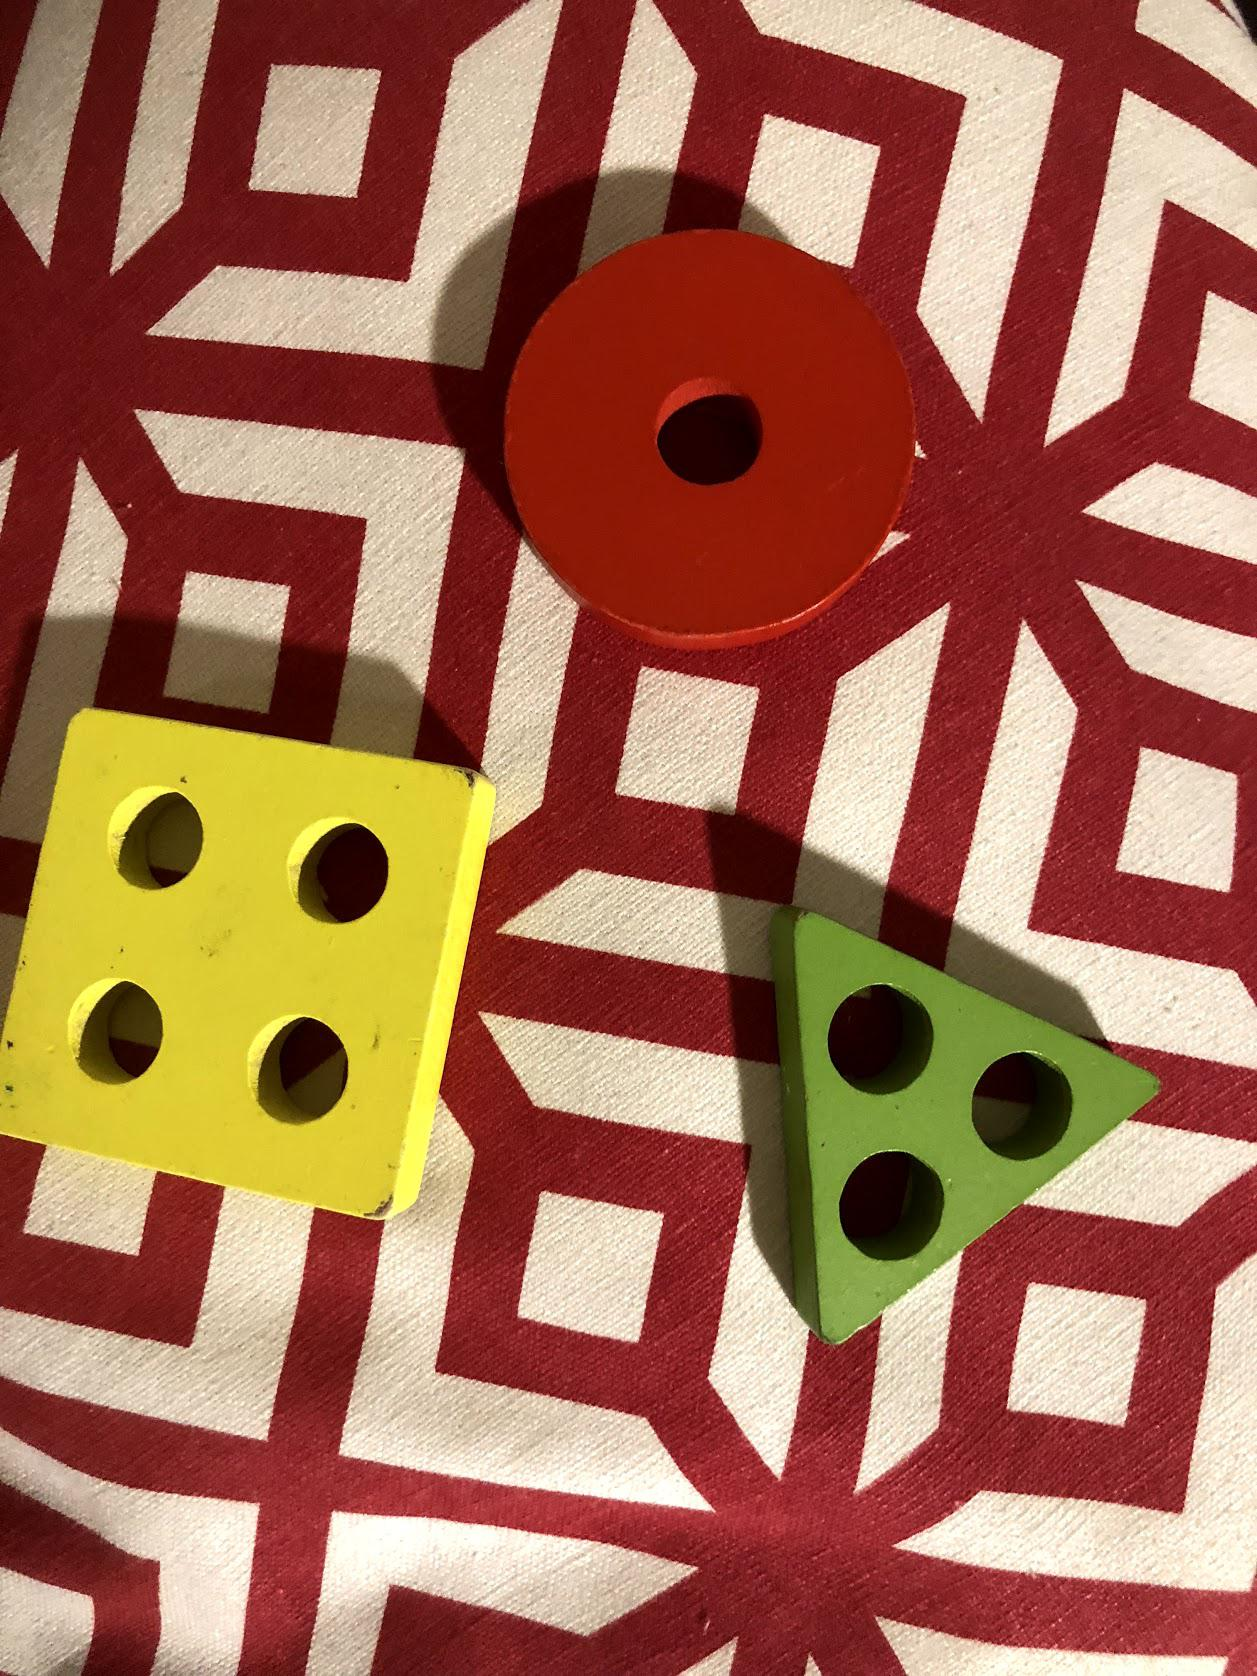Circle: (494, 224, 926, 657)
Square: (1, 703, 503, 1231)
Triangle: (783, 908, 1169, 1351)
